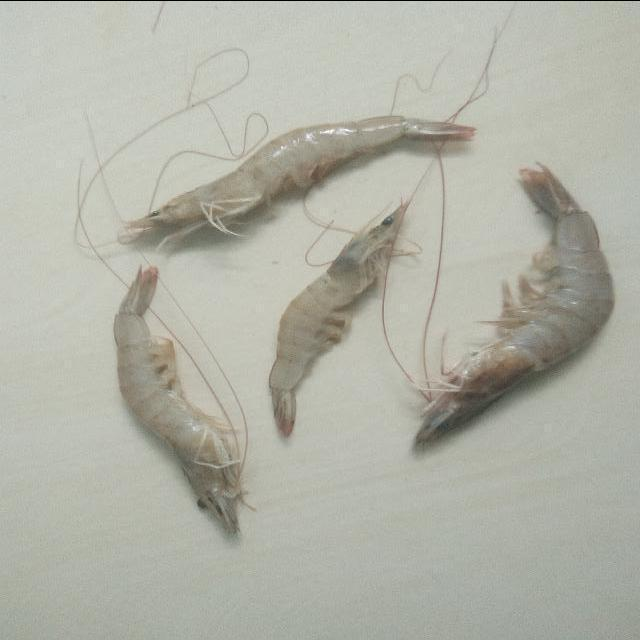shrimp: (414, 164, 614, 451), (119, 114, 475, 244), (113, 266, 239, 533), (269, 202, 407, 434)
